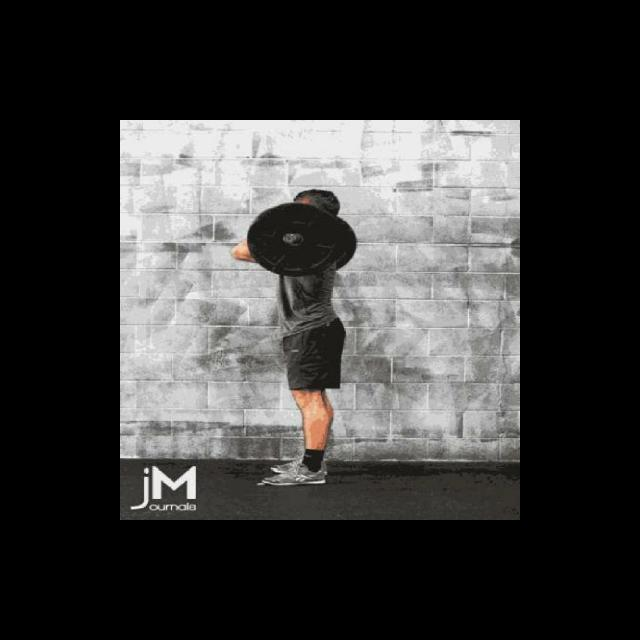barbell: (244, 199, 342, 279)
